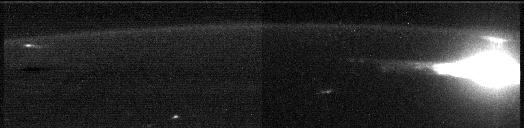negative: (477, 34, 512, 49)
